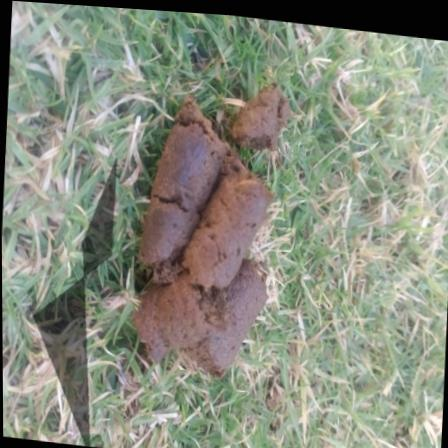dog-poop: (121, 71, 296, 388)
